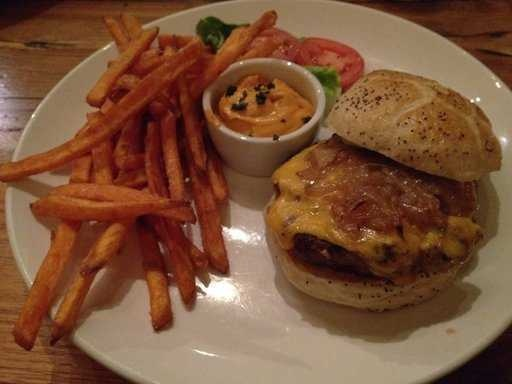hamburger: (278, 71, 481, 306)
